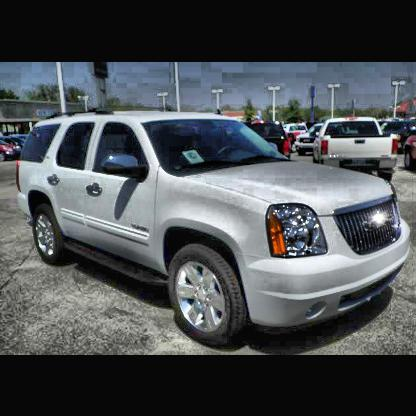GMC Yukon Hybrid SUV 2012: (14, 108, 412, 349)
